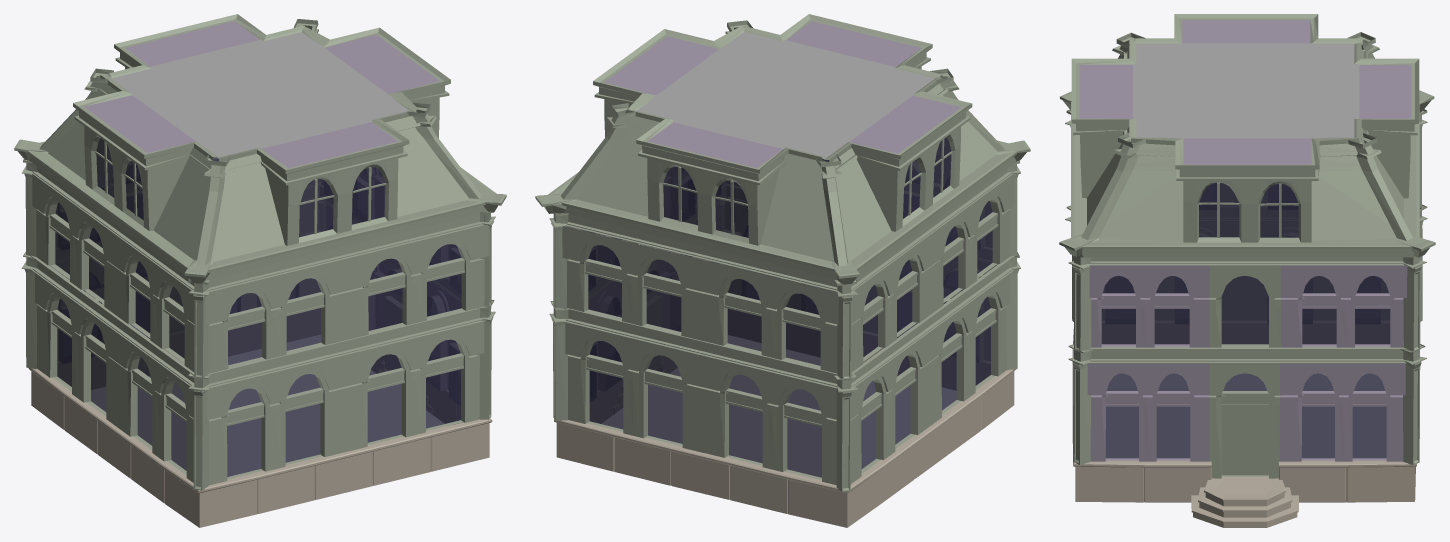
Rendered from MagistrateArtTest.fbx.
3 views of the same model, side by side, from view 1: azimuth 30°, elevation 25°; view 2: azimuth 150°, elevation 25°; view 3: azimuth 270°, elevation 25° (orthographic).
Parts seen in each view (by area): view 1: Magistrate_finished; view 2: Magistrate_finished; view 3: Magistrate_finished.
Part boxes in pixels (x1,y1,x2,y2): Magistrate_finished: (14,14,506,527); Magistrate_finished: (535,14,1030,527); Magistrate_finished: (1059,14,1435,527).
Bounding box in the file's own units: 13.7 × 12.37 × 12.3.
